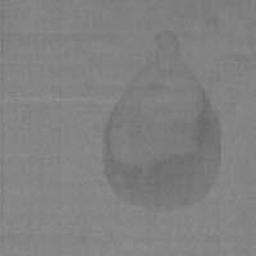Oil spot: (101, 31, 225, 214)
